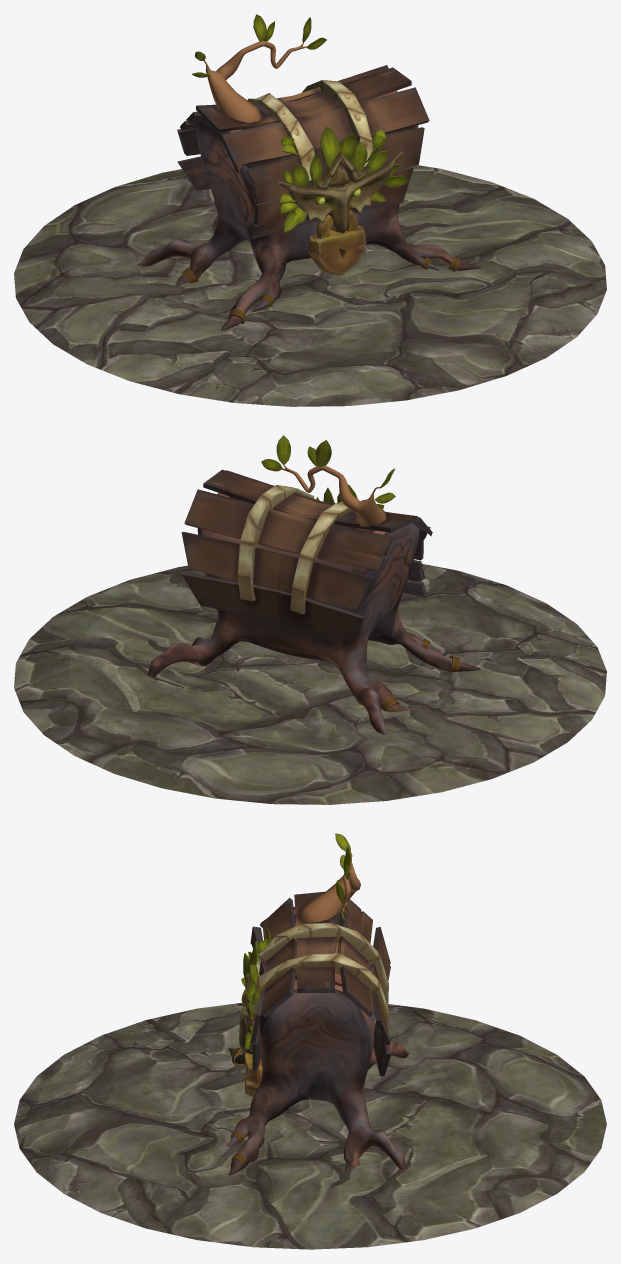
The model's file is chest.fbx.
3 views of the same model, one above another, from view 1: azimuth 30°, elevation 25°; view 2: azimuth 150°, elevation 25°; view 3: azimuth 270°, elevation 25° (orthographic).
Visible parts, largest first — view 1: Circle, Cube.008, Cube.002, Plane, Cube.009, Cube, Plane.015, Plane.003; view 2: Circle, Cube.008, Cube.002, Cube.009, Plane.015; view 3: Circle, Cube.002, Cube.008, Cube.009, Plane.015, Plane, Cube.
Part boxes in pixels (x1=…): Circle: x1=14, y1=165, x2=606, y2=406; Cube.008: x1=177, y1=65, x2=429, y2=239; Cube.002: x1=137, y1=90, x2=480, y2=330; Plane: x1=277, y1=151, x2=402, y2=233; Cube.009: x1=247, y1=80, x2=372, y2=180; Cube: x1=308, y1=210, x2=366, y2=275; Plane.015: x1=199, y1=41, x2=307, y2=122; Plane.003: x1=320, y1=126, x2=340, y2=168; Circle: x1=14, y1=564, x2=606, y2=804; Cube.008: x1=181, y1=469, x2=432, y2=641; Cube.002: x1=147, y1=493, x2=480, y2=734; Cube.009: x1=237, y1=485, x2=351, y2=614; Plane.015: x1=279, y1=465, x2=385, y2=531; Circle: x1=14, y1=1002, x2=606, y2=1249; Cube.002: x1=226, y1=906, x2=409, y2=1175; Cube.008: x1=250, y1=891, x2=390, y2=1076; Cube.009: x1=252, y1=923, x2=388, y2=1033; Plane.015: x1=299, y1=852, x2=360, y2=922; Plane: x1=239, y1=973, x2=255, y2=1054; Cube: x1=245, y1=1053, x2=262, y2=1096.
Bounding box in the file's own units: 3155 × 1535 × 3155.
